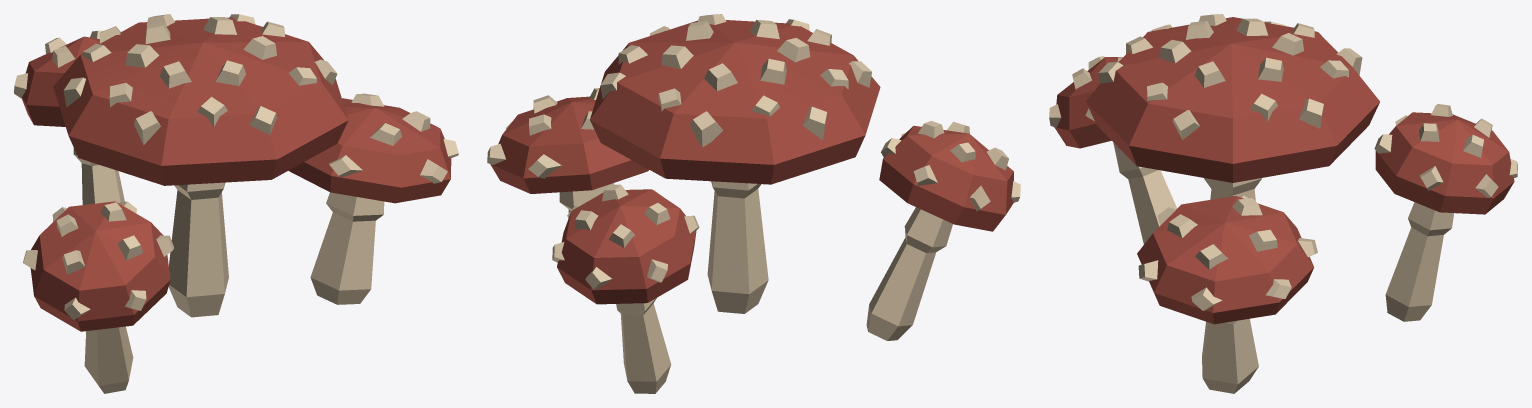
The model's file is SM_Prop_Mushroom_Group_05.fbx.
3 views of the same model, side by side, from view 1: azimuth 30°, elevation 25°; view 2: azimuth 150°, elevation 25°; view 3: azimuth 270°, elevation 25° (orthographic). The views are drawn at different scales.
Parts seen in each view (by area): view 1: SM_Prop_Mushroom_Group_05; view 2: SM_Prop_Mushroom_Group_05; view 3: SM_Prop_Mushroom_Group_05.
Part boxes in pixels (x1,y1,x2,y2): SM_Prop_Mushroom_Group_05: [14, 14, 458, 393]; SM_Prop_Mushroom_Group_05: [487, 14, 1020, 393]; SM_Prop_Mushroom_Group_05: [1049, 14, 1517, 393].
Bounding box in the file's own units: 35.56 × 21.65 × 32.28.
1 material, 1 textured.
